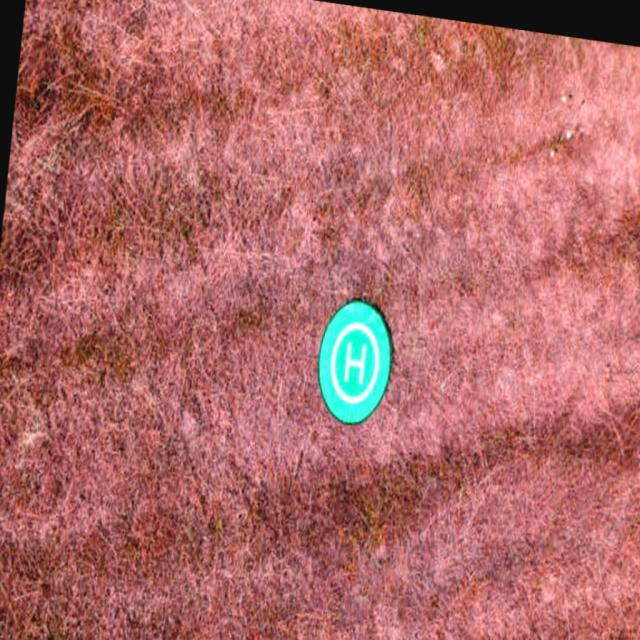helipad: (328, 319, 380, 405)
